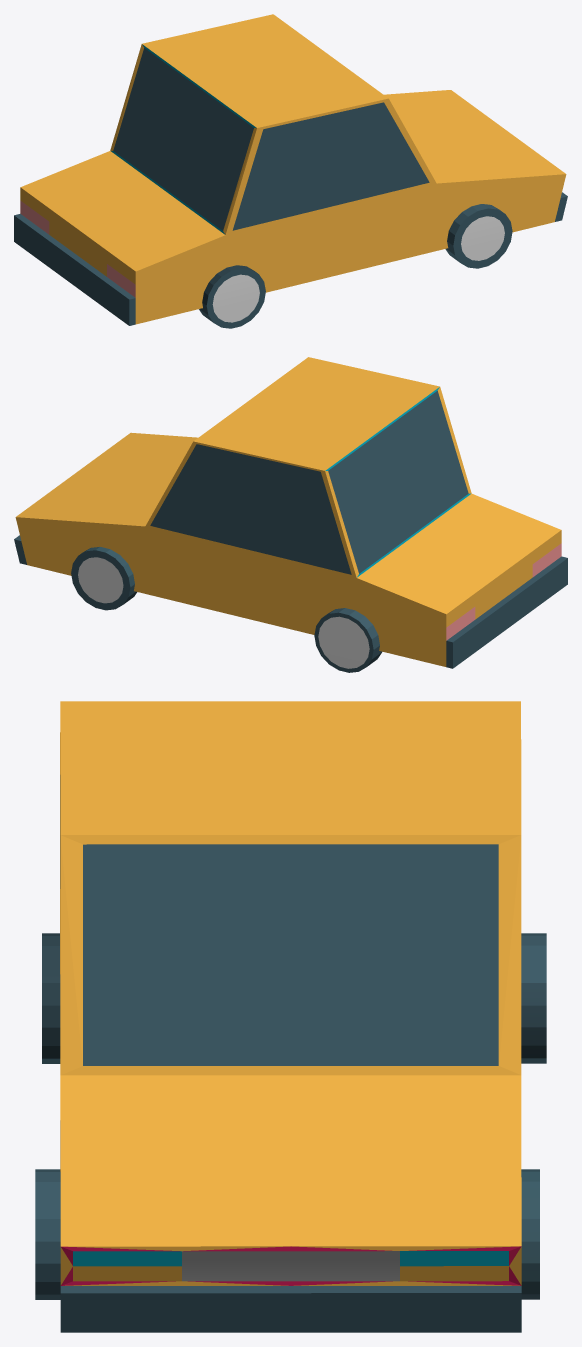
The model's file is car_4_1.dae.
The picture shows the model from 3 angles, top to bottom: view 1: azimuth 30°, elevation 25°; view 2: azimuth 150°, elevation 25°; view 3: azimuth 270°, elevation 25°; orthographic projection. The views are drawn at different scales.
Visible parts, largest first — view 1: Car_04.003; view 2: Car_04.003; view 3: Car_04.003.
Part boxes in pixels (x1=…): Car_04.003: x1=14, y1=14, x2=567, y2=328; Car_04.003: x1=14, y1=357, x2=567, y2=672; Car_04.003: x1=35, y1=701, x2=546, y2=1332.
Bounding box in the file's own units: 4.42 × 2.23 × 1.83.
1 material, 1 textured.
